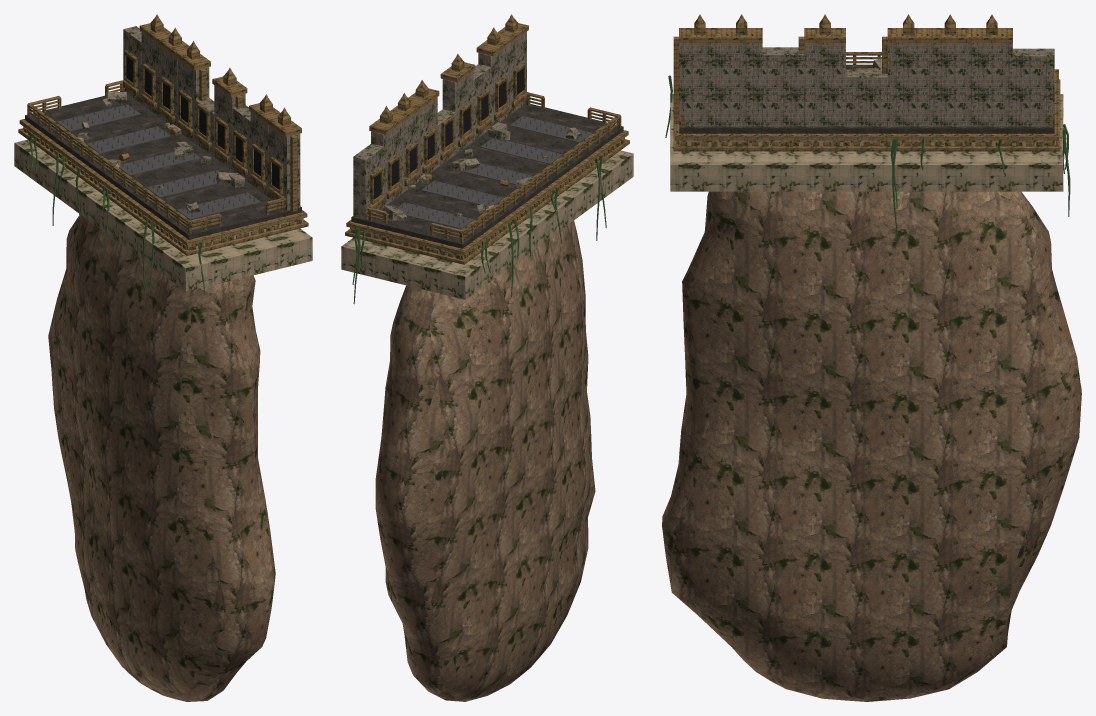
File: Room_Trap.fbx
3 renders of one model, left to right at view 1: azimuth 30°, elevation 25°; view 2: azimuth 150°, elevation 25°; view 3: azimuth 270°, elevation 25°, orthographic. The views are drawn at different scales.
Parts seen in each view (by area): view 1: Trap_Rock_LOD0, Trap_Structure_LOD0, Trap_Spikes.005; view 2: Trap_Rock_LOD0, Trap_Structure_LOD0, Trap_Spikes.005; view 3: Trap_Rock_LOD0, Trap_Structure_LOD0.
Part boxes in pixels (bbox=[...]): Trap_Rock_LOD0: bbox=[48, 214, 275, 701]; Trap_Structure_LOD0: bbox=[14, 14, 312, 300]; Trap_Spikes.005: bbox=[57, 102, 260, 219]; Trap_Rock_LOD0: bbox=[375, 220, 595, 701]; Trap_Structure_LOD0: bbox=[341, 14, 633, 304]; Trap_Spikes.005: bbox=[397, 114, 592, 228]; Trap_Rock_LOD0: bbox=[662, 191, 1081, 701]; Trap_Structure_LOD0: bbox=[665, 14, 1070, 233].
Size of what is drawn, in the model's own units: 14.39 by 62.64 by 33.55.
